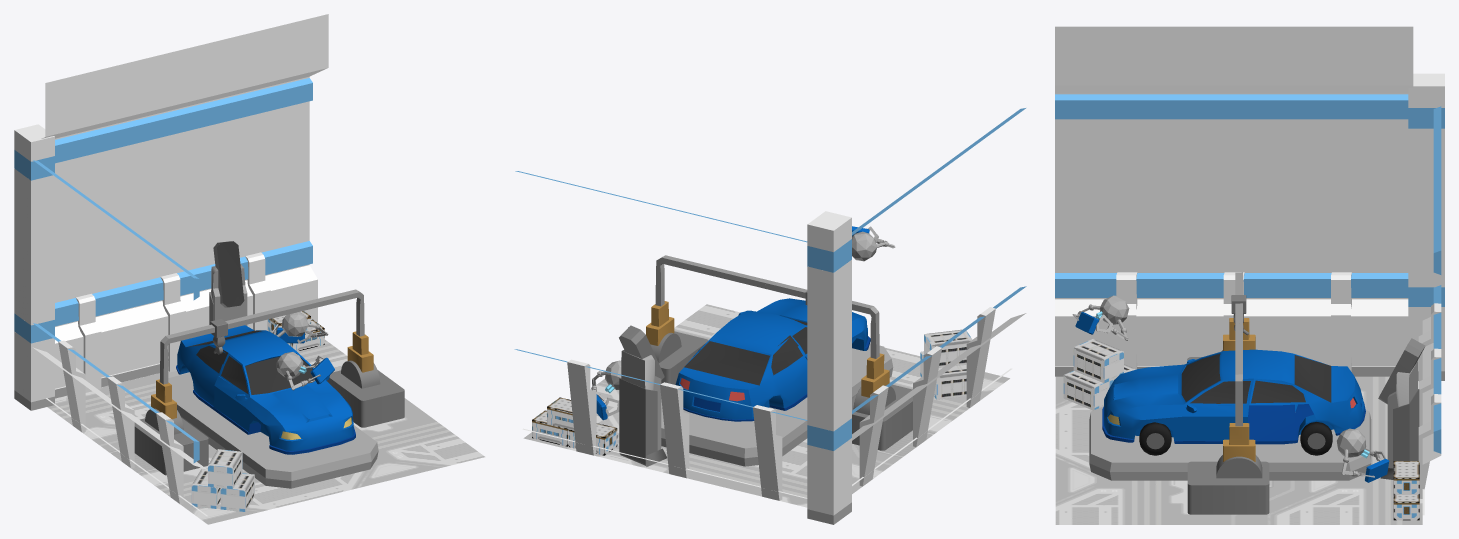
3 views of the same model, side by side, from view 1: azimuth 30°, elevation 25°; view 2: azimuth 150°, elevation 25°; view 3: azimuth 270°, elevation 25° (orthographic). The views are drawn at different scales.
Parts seen in each view (by area): view 1: Wall_4_L.001, Car.004, Floor.004, wall_M, bottom set.002, Wall_4_L, 02.001, 03.002, Props_Computer.005, 04.001, caseA.002, caseA (+1 smaller); view 2: wall_M, Car.004, Floor.004, Wall_4_L.001, Wall_4_L, Props_Computer.005, bottom set.002, 02.001, 04.001, 03.002, caseA.002, caseA.001 (+4 smaller); view 3: Wall_4_L, Car.004, Floor.004, wall_M, bottom set.002, Wall_4_L.001, 03.002, Props_Computer.005, 02.001, caseA.002, caseA, caseB.002 (+5 smaller).
Part boxes in pixels (box(x1,y1,x2,y2)): Wall_4_L.001: box(41, 14, 328, 398); Car.004: box(176, 325, 355, 454); Floor.004: box(47, 339, 484, 524); wall_M: box(14, 124, 54, 410); bottom set.002: box(168, 373, 378, 488); Wall_4_L: box(33, 160, 207, 516); 02.001: box(151, 289, 373, 418); 03.002: box(327, 360, 404, 427); Props_Computer.005: box(209, 241, 247, 325); 04.001: box(134, 408, 208, 475); caseA.002: box(208, 449, 242, 489); caseA: box(220, 473, 254, 511); wall_M: box(807, 211, 851, 524); Car.004: box(675, 298, 870, 421); Floor.004: box(523, 304, 1009, 507); Wall_4_L.001: box(514, 171, 807, 500); Wall_4_L: box(852, 108, 1026, 486); Props_Computer.005: box(619, 325, 667, 466); bottom set.002: box(661, 343, 893, 466); 02.001: box(646, 255, 889, 397); 04.001: box(852, 384, 912, 450); 03.002: box(650, 331, 708, 384); caseA.002: box(924, 329, 972, 367); caseA.001: box(934, 364, 966, 399); Wall_4_L: box(1055, 26, 1413, 376); Car.004: box(1102, 349, 1365, 444); Floor.004: box(1055, 376, 1422, 524); wall_M: box(1408, 73, 1444, 380); bottom set.002: box(1089, 406, 1371, 480); Wall_4_L.001: box(1418, 106, 1441, 515); 03.002: box(1187, 455, 1269, 514); Props_Computer.005: box(1378, 338, 1425, 479); 02.001: box(1223, 272, 1255, 461); caseA.002: box(1073, 339, 1123, 383); caseA: box(1063, 370, 1114, 410); caseB.002: box(1393, 461, 1419, 494).
Size of the model in its own units: 0.6653 by 0.7105 by 0.698.
Materials: 25 (3 with a texture image).
